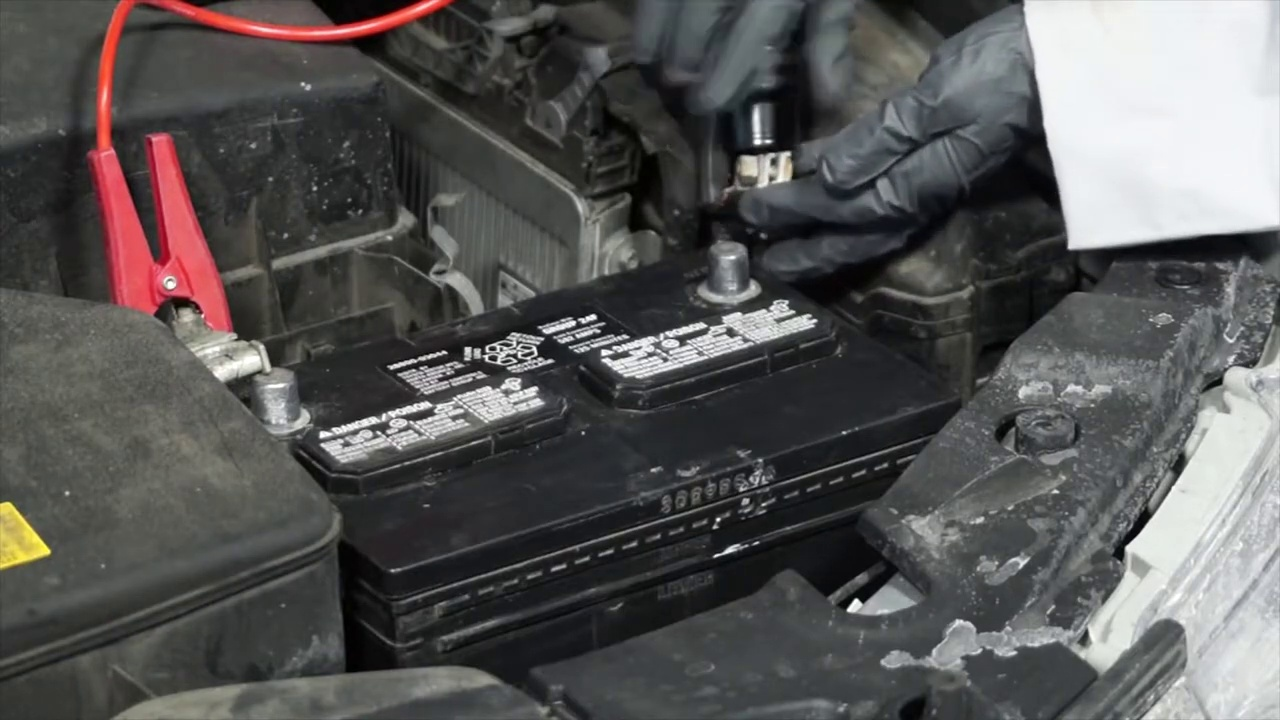battery: (247, 226, 982, 546)
neg_disconnected: (631, 169, 817, 329)
neg_touched: (695, 52, 872, 309)
pos_disconnected: (106, 192, 336, 437)
